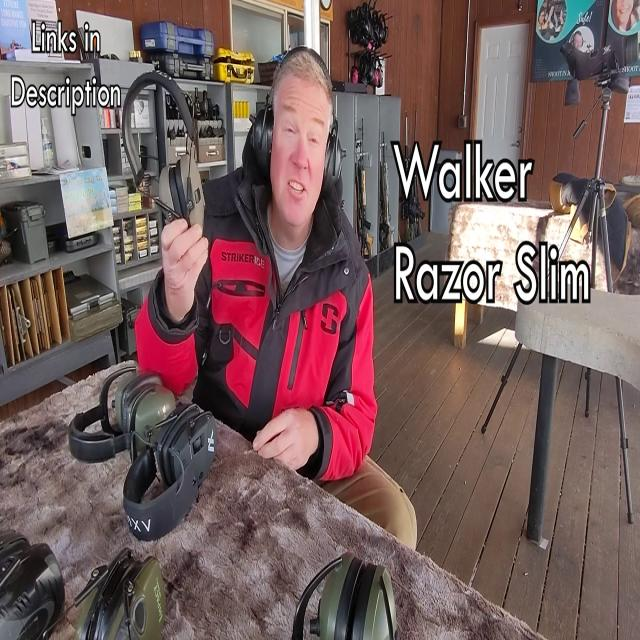earmuff: (175, 144, 210, 233), (243, 100, 276, 172), (153, 158, 181, 233), (321, 128, 349, 188)
